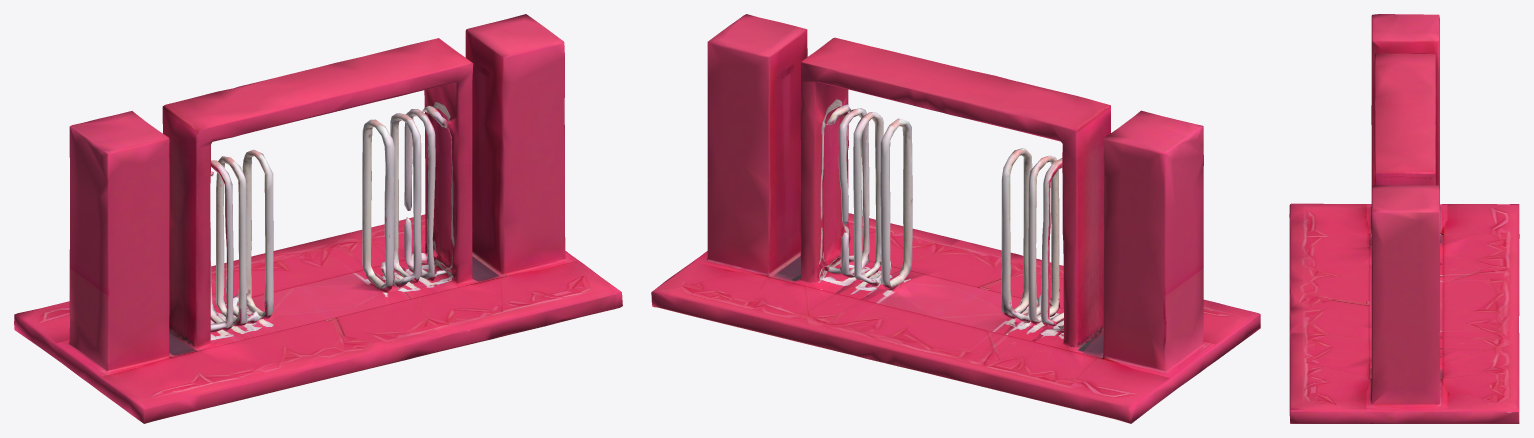
File: Rectangular_gate_obst_1028223027_texture.glb
3 views of the same model, side by side, from view 1: azimuth 30°, elevation 25°; view 2: azimuth 150°, elevation 25°; view 3: azimuth 270°, elevation 25° (orthographic). The views are drawn at different scales.
Parts seen in each view (by area): view 1: Mesh1.0; view 2: Mesh1.0; view 3: Mesh1.0.
Part boxes in pixels (x1,y1,x2,y2): Mesh1.0: (14, 14, 622, 423); Mesh1.0: (651, 14, 1260, 423); Mesh1.0: (1289, 14, 1519, 423).
Size of the model in its own units: 2.01 by 0.9412 by 0.9401.
1 material, 1 textured.
